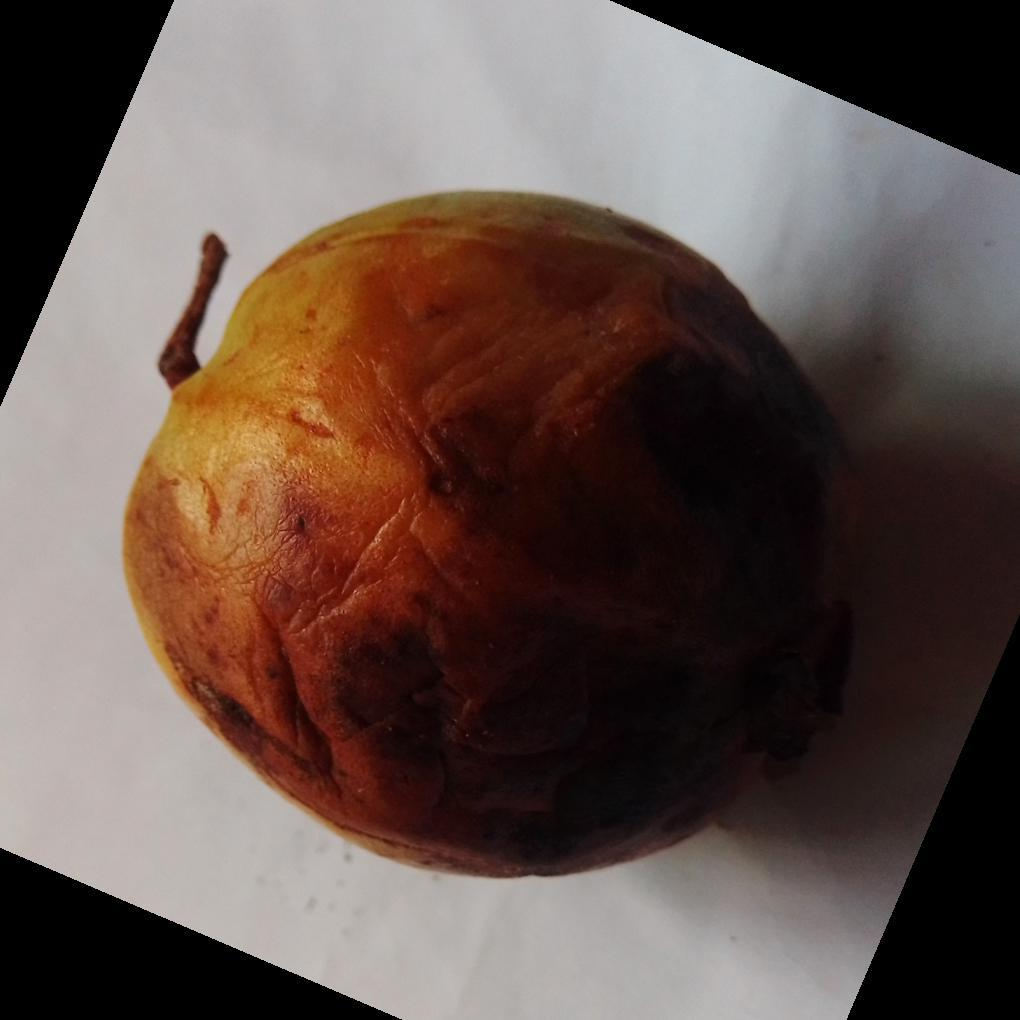FreshOrange: (121, 190, 853, 884)
